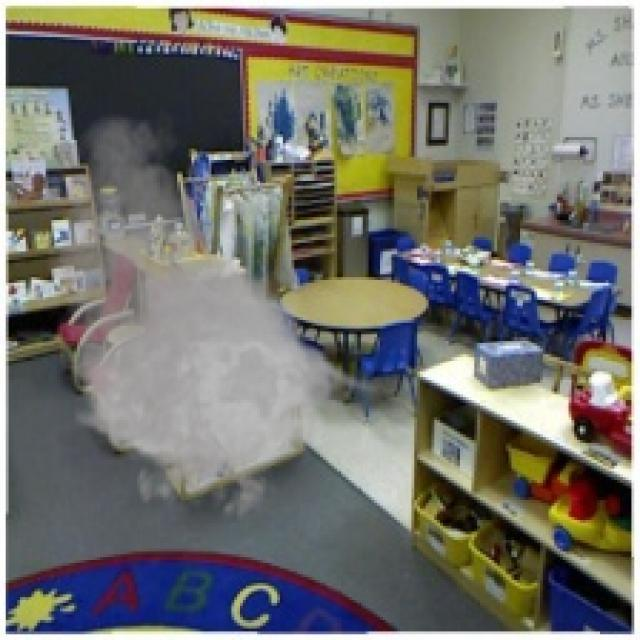Smoke: (37, 109, 386, 532)
